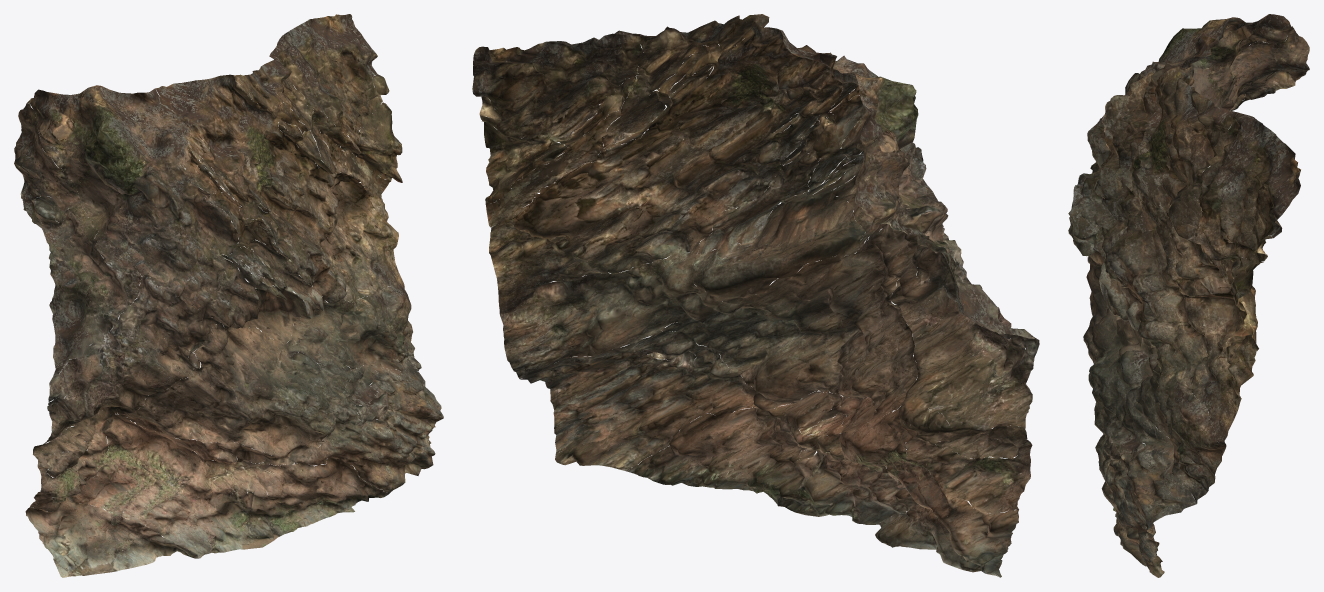
Rendered from mountainside.glb.
The picture shows the model from 3 angles, left to right: view 1: azimuth 30°, elevation 25°; view 2: azimuth 150°, elevation 25°; view 3: azimuth 270°, elevation 25°; orthographic projection. The views are drawn at different scales.
Visible parts, largest first — view 1: mountainside; view 2: mountainside; view 3: mountainside.
Part boxes in pixels (x1,y1,x2,y2): mountainside: (14,14,443,577); mountainside: (472,14,1039,577); mountainside: (1068,14,1309,577).
Size of the model in its own units: 10.21 by 10.53 by 5.25.
Materials: 1 (1 with a texture image).
